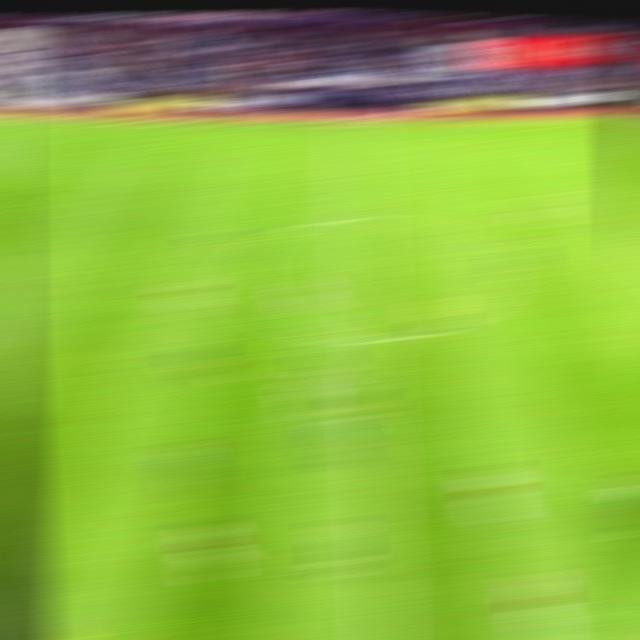halfcircle_bottom: (345, 322, 395, 356)
halfcircle_top: (338, 205, 388, 232)
midline_top_intersection: (335, 108, 380, 135)
